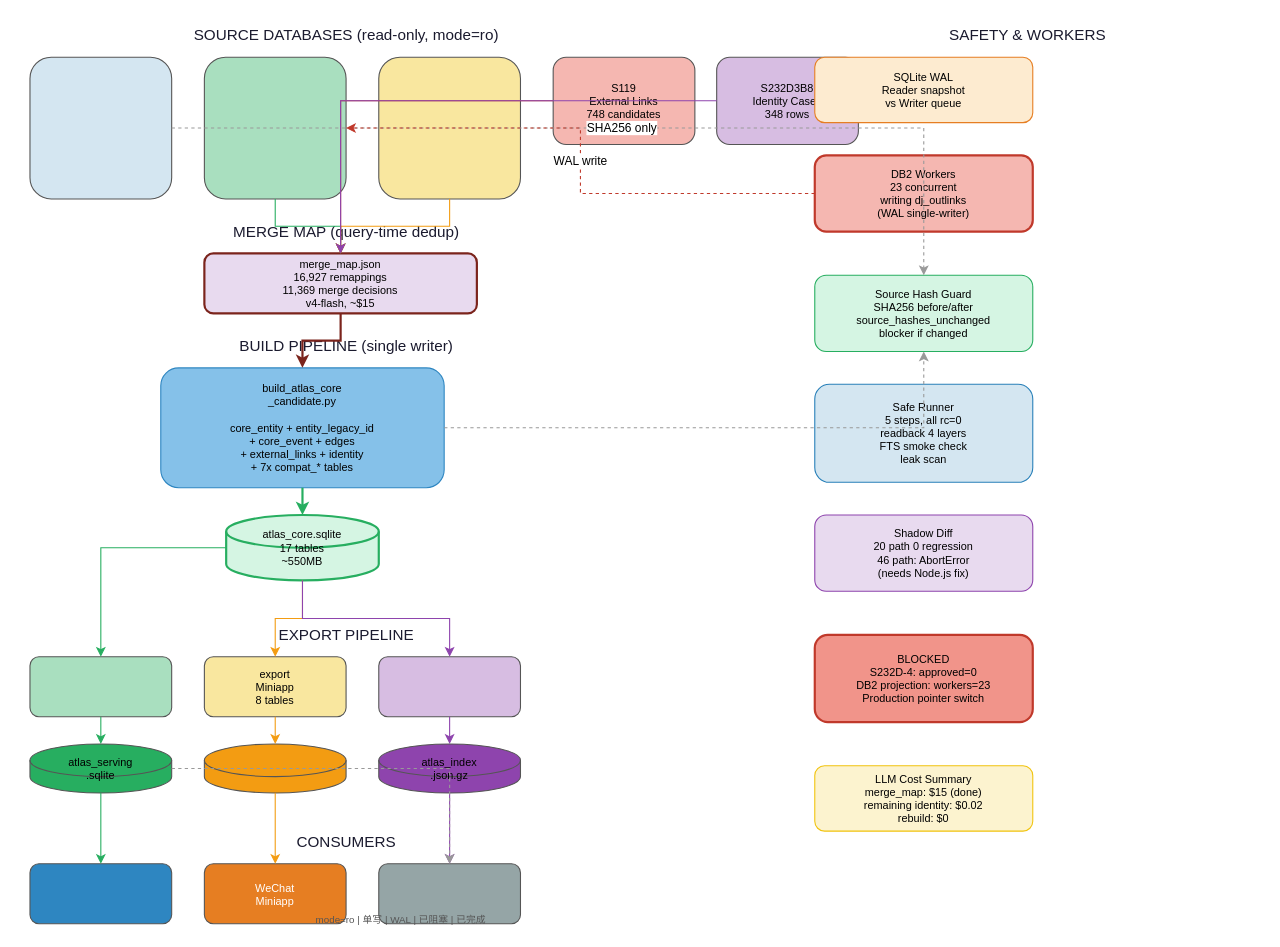
Image size: 1280x947. Some labels were removed from this diagram. The box of each missing label's shape, as (x1, y1, x2, y2) in pixels:
atlas_miniapp .sqlite: (203, 743, 346, 793)
DB1 WeChat Raw 3.8GB hash guard only: (29, 56, 172, 199)
DB2 Serving 2.1GB main source: (203, 56, 346, 199)
DB3 Miniapp 364MB secondary: (378, 56, 520, 199)
export Index .gz: (378, 656, 520, 717)
export Serving 12 tables: (29, 656, 172, 717)
Legacy Scripts: (378, 863, 520, 924)
Stage7 API (ATLAS_CORE_ SQLITE_DB opt-in): (29, 863, 172, 924)
